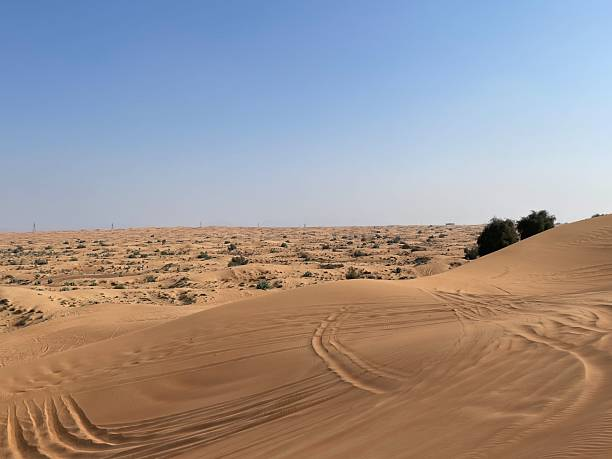vehicle_track: (0, 375, 348, 458), (311, 307, 400, 393)
